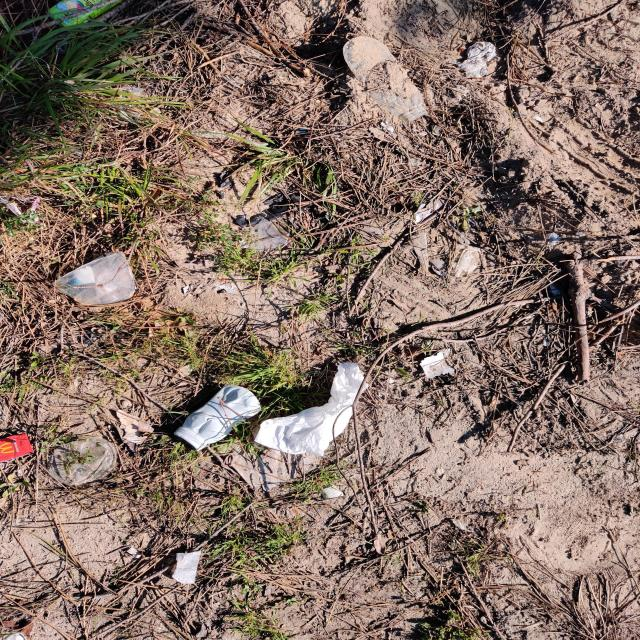litter: (248, 357, 377, 463), (28, 230, 168, 322), (161, 379, 268, 456)
